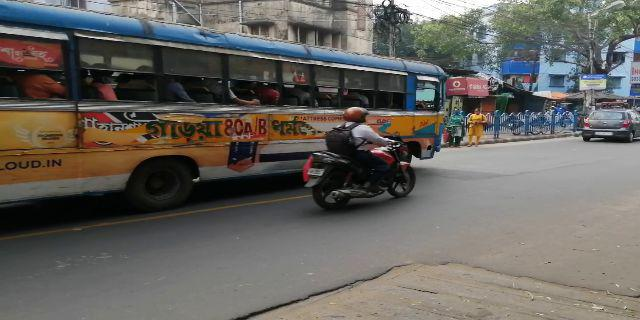Bus: (1, 11, 445, 213)
Car: (585, 105, 635, 145)
Motorbike: (294, 113, 419, 205)
